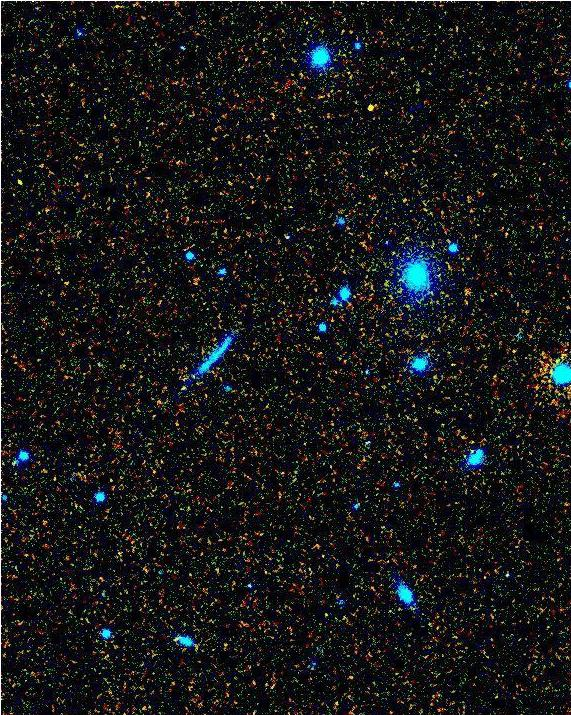star: (355, 93, 385, 123)
